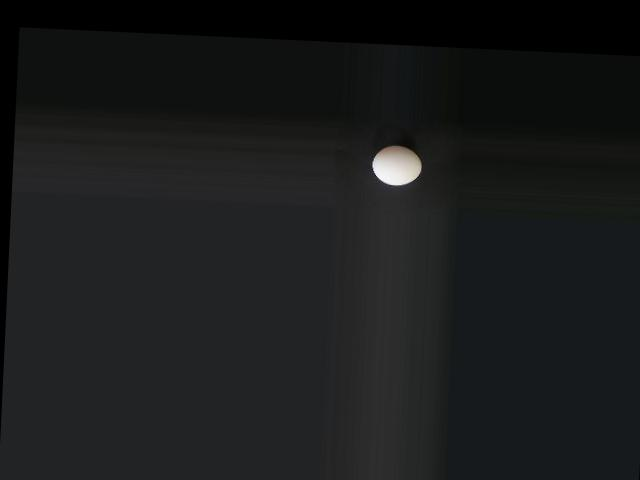egg: (373, 144, 423, 186)
